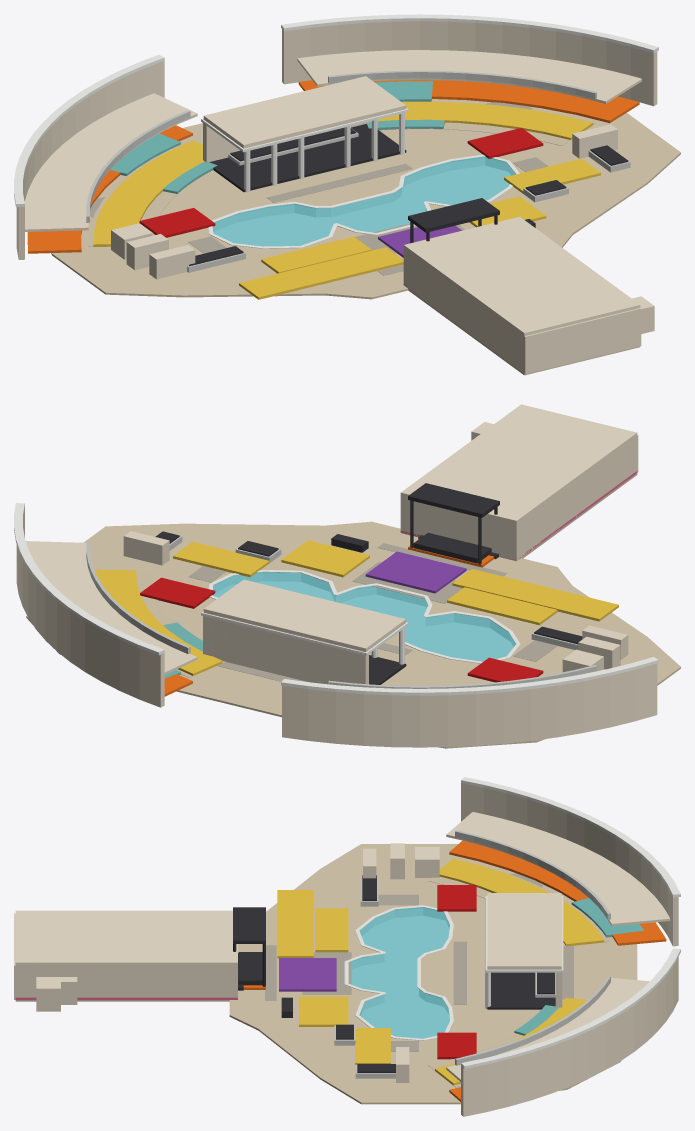
File: encore-blockout.glb
3 views of the same model, one above another, from view 1: azimuth 30°, elevation 25°; view 2: azimuth 150°, elevation 25°; view 3: azimuth 270°, elevation 25° (orthographic). The views are drawn at different scales.
Visible parts, largest first — view 1: Deck, Facade, Terrace_Upper, Backstage_Roof, Gaming_Pavilion, Pool_Water, Pool_Basin, Backstage_Walls, Zone_GamingPavilion, Zone_Cabanas_Lower_S, Zone_Cabanas_Upper_N, Zone_Cabanas_Lower_N (+21 smaller); view 2: Facade, Deck, Gaming_Pavilion, Backstage_Roof, Backstage_Walls, Pool_Water, Pool_Basin, Terrace_Upper, Walkway_Paths, Zone_Couches_800, Zone_Cabanas_Lower_N, Zone_DanceFloor (+14 smaller); view 3: Deck, Facade, Backstage_Roof, Terrace_Upper, Pool_Water, Pool_Basin, Backstage_Walls, Gaming_Pavilion, Walkway_Paths, Zone_Cabanas_Lower_S, Zone_Cabanas_Upper_S, Zone_Couches_800 (+16 smaller).
Part boxes in pixels (bbox=[...]): Deck: bbox=[51, 99, 680, 299]; Facade: bbox=[14, 14, 658, 259]; Terrace_Upper: bbox=[24, 50, 641, 231]; Backstage_Roof: bbox=[403, 216, 640, 336]; Gaming_Pavilion: bbox=[201, 76, 408, 192]; Pool_Water: bbox=[212, 156, 515, 246]; Pool_Basin: bbox=[213, 158, 515, 246]; Backstage_Walls: bbox=[403, 248, 654, 374]; Zone_GamingPavilion: bbox=[209, 124, 406, 191]; Zone_Cabanas_Lower_S: bbox=[93, 140, 204, 246]; Zone_Cabanas_Upper_N: bbox=[298, 80, 639, 123]; Zone_Cabanas_Lower_N: bbox=[370, 101, 593, 139]; Facade: bbox=[14, 503, 658, 747]; Deck: bbox=[26, 521, 680, 748]; Gaming_Pavilion: bbox=[201, 579, 408, 684]; Backstage_Roof: bbox=[400, 404, 637, 523]; Backstage_Walls: bbox=[400, 422, 638, 561]; Pool_Water: bbox=[212, 572, 515, 661]; Pool_Basin: bbox=[213, 572, 515, 661]; Terrace_Upper: bbox=[26, 541, 605, 688]; Walkway_Paths: bbox=[188, 543, 557, 681]; Zone_Couches_800: bbox=[452, 569, 618, 621]; Zone_Cabanas_Lower_N: bbox=[94, 569, 222, 675]; Zone_DanceFloor: bbox=[365, 551, 466, 593]; Deck: bbox=[229, 844, 637, 1104]; Facade: bbox=[461, 777, 680, 1116]; Backstage_Roof: bbox=[15, 910, 237, 965]; Terrace_Upper: bbox=[446, 812, 670, 1081]; Pool_Water: bbox=[351, 907, 449, 1038]; Pool_Basin: bbox=[352, 908, 449, 1038]; Backstage_Walls: bbox=[14, 913, 237, 1011]; Gaming_Pavilion: bbox=[485, 893, 563, 1008]; Walkway_Paths: bbox=[265, 874, 573, 1051]; Zone_Cabanas_Lower_S: bbox=[439, 858, 604, 946]; Zone_Cabanas_Upper_S: bbox=[449, 840, 666, 945]; Zone_Couches_800: bbox=[277, 890, 313, 958].
Bounding box in the file's own units: 108 × 10.6 × 105.
2 materials, 1 textured.
